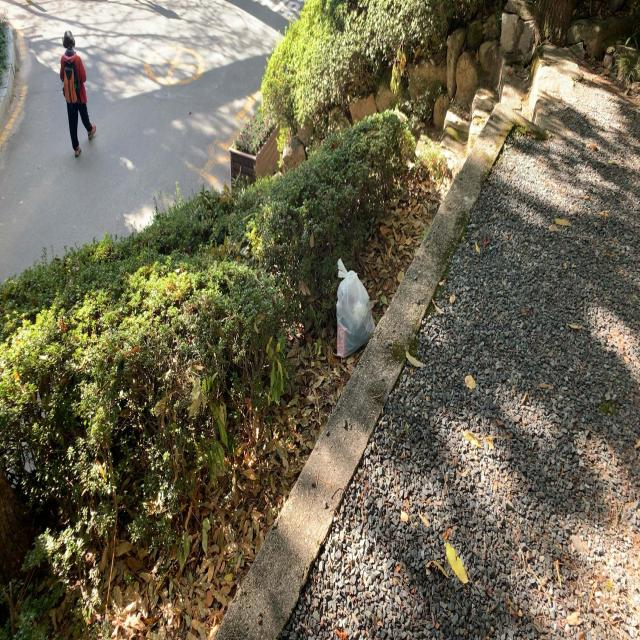garbage bag: (334, 256, 376, 360)
